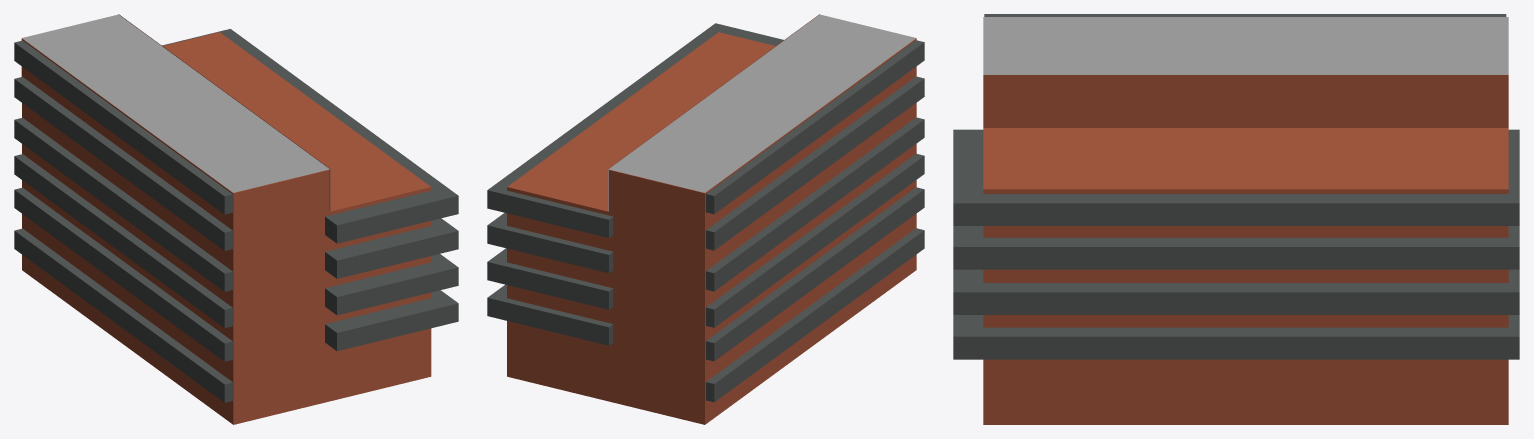
File: block_R.glb
3 renders of one model, left to right at view 1: azimuth 30°, elevation 25°; view 2: azimuth 150°, elevation 25°; view 3: azimuth 270°, elevation 25°, orthographic. The views are drawn at different scales.
Parts seen in each view (by area): view 1: Cube.001, Cube.002, Cube.005, Cube.011, Cube.012, Cube.013, Cube.015, Cube.010, Cube.003, Cube.007, Cube.008, Cube.004; view 2: Cube.001, Cube.002, Cube.005, Cube.012, Cube.013, Cube.015, Cube.011, Cube.003, Cube.010, Cube.008, Cube.007, Cube.004; view 3: Cube.001, Cube.002, Cube.014, Cube.005, Cube.008, Cube.004, Cube.007, Cube.003.
Part boxes in pixels (x1,y1,x2,y2): Cube.001: [21, 32, 431, 424]; Cube.002: [22, 14, 330, 211]; Cube.005: [162, 29, 458, 243]; Cube.011: [14, 154, 232, 328]; Cube.012: [14, 117, 232, 291]; Cube.013: [14, 228, 232, 402]; Cube.015: [14, 187, 232, 361]; Cube.010: [14, 77, 232, 250]; Cube.003: [14, 40, 232, 214]; Cube.007: [325, 254, 458, 315]; Cube.008: [325, 290, 458, 351]; Cube.004: [325, 218, 458, 278]; Cube.001: [507, 32, 916, 424]; Cube.002: [608, 14, 916, 211]; Cube.005: [487, 23, 783, 237]; Cube.012: [706, 117, 924, 291]; Cube.013: [706, 228, 924, 402]; Cube.015: [706, 187, 924, 361]; Cube.011: [706, 153, 924, 327]; Cube.003: [706, 40, 924, 214]; Cube.010: [706, 76, 924, 250]; Cube.008: [487, 284, 613, 345]; Cube.007: [487, 248, 613, 309]; Cube.004: [487, 213, 613, 273]; Cube.001: [983, 128, 1508, 424]; Cube.002: [983, 17, 1508, 74]; Cube.014: [983, 75, 1508, 127]; Cube.005: [953, 129, 1519, 225]; Cube.008: [953, 315, 1519, 359]; Cube.004: [953, 226, 1519, 269]; Cube.007: [953, 269, 1519, 314]; Cube.003: [984, 14, 1506, 16].
Size of the model in its own units: 0.3114 by 0.3122 by 0.5552.
